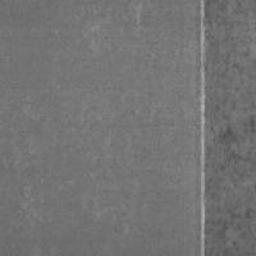Welding line: (200, 0, 206, 256)
